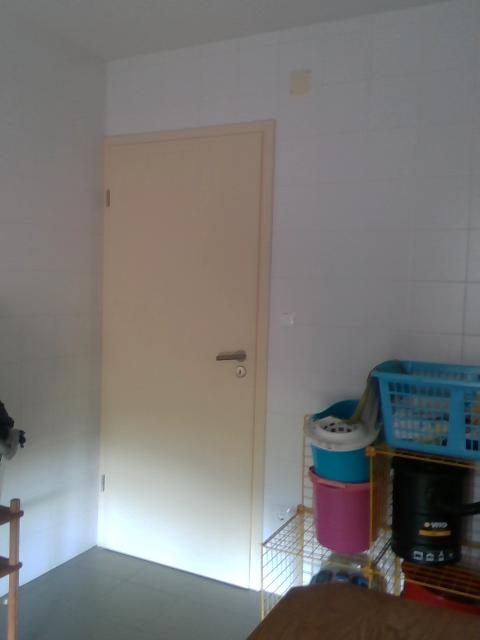door: (100, 137, 262, 590)
